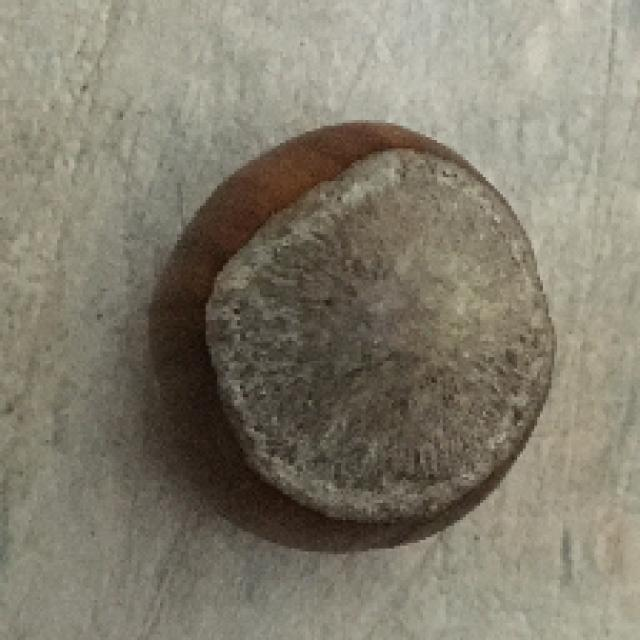QualityHazelnut: (147, 120, 557, 549)
